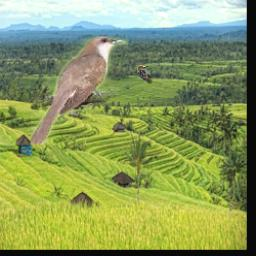Cuckoo: (30, 37, 127, 146)
Woodpecker: (135, 65, 154, 85)
